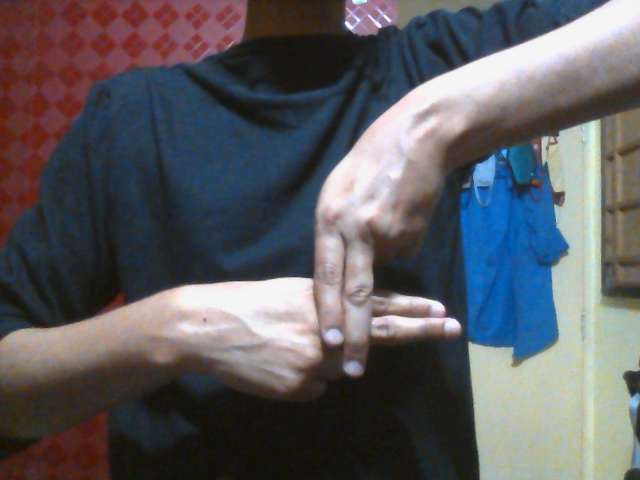F: (195, 143, 463, 408)
